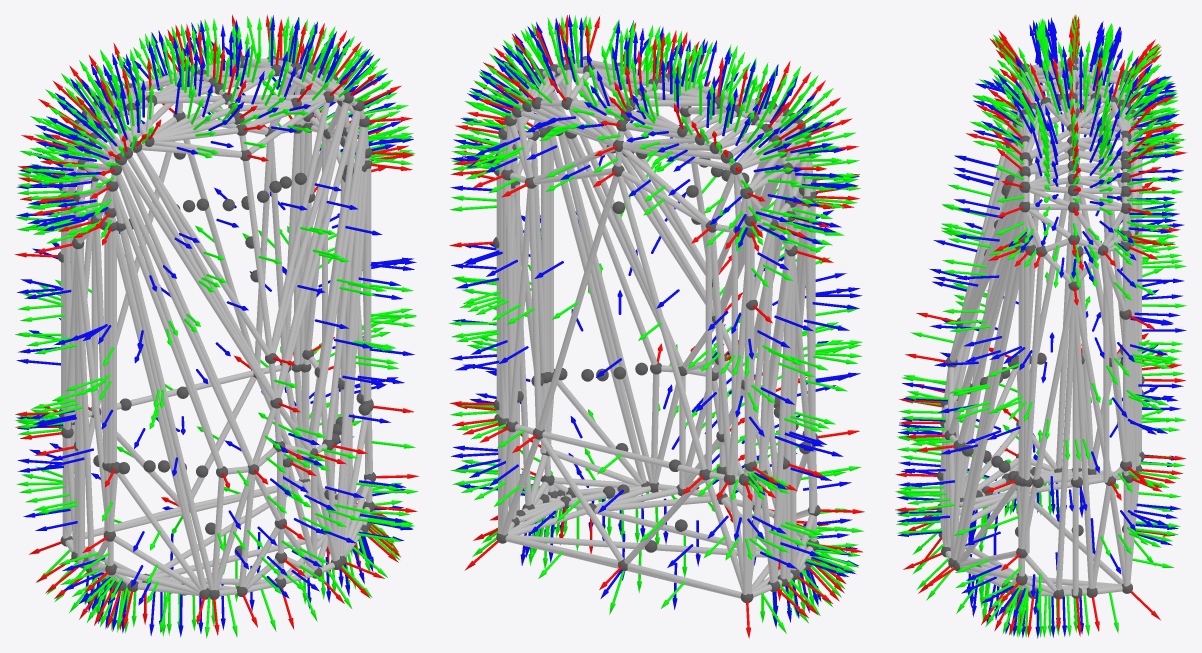
3 views of the same model, side by side, from view 1: azimuth 30°, elevation 25°; view 2: azimuth 150°, elevation 25°; view 3: azimuth 270°, elevation 25° (orthographic). The views are drawn at different scales.
Bounding box in the file's own units: 0.6586 × 0.9621 × 0.4861.
